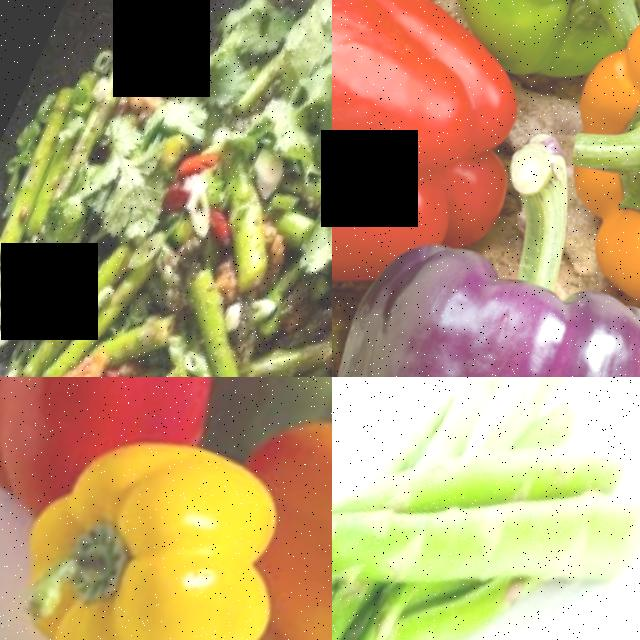asparagus: (332, 377, 587, 640)
bell pepper: (332, 0, 566, 261), (15, 441, 301, 640), (332, 241, 640, 377), (544, 0, 640, 329), (252, 418, 332, 640), (0, 377, 239, 443), (397, 0, 640, 56)
